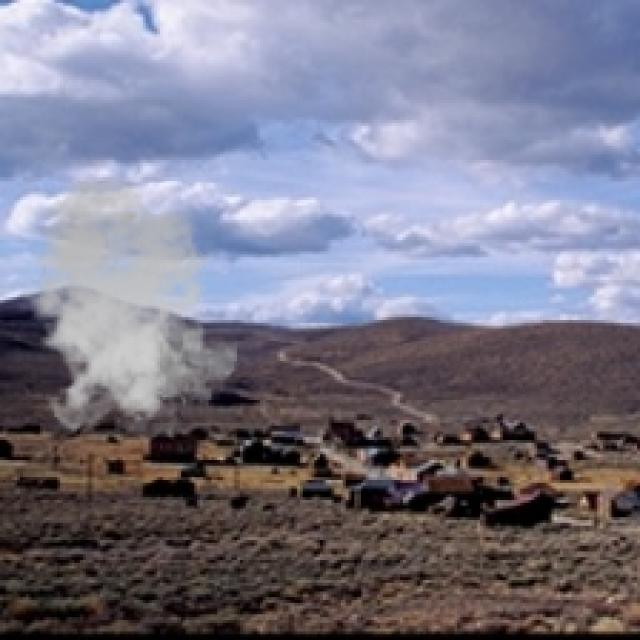smoke: (9, 174, 237, 437)
